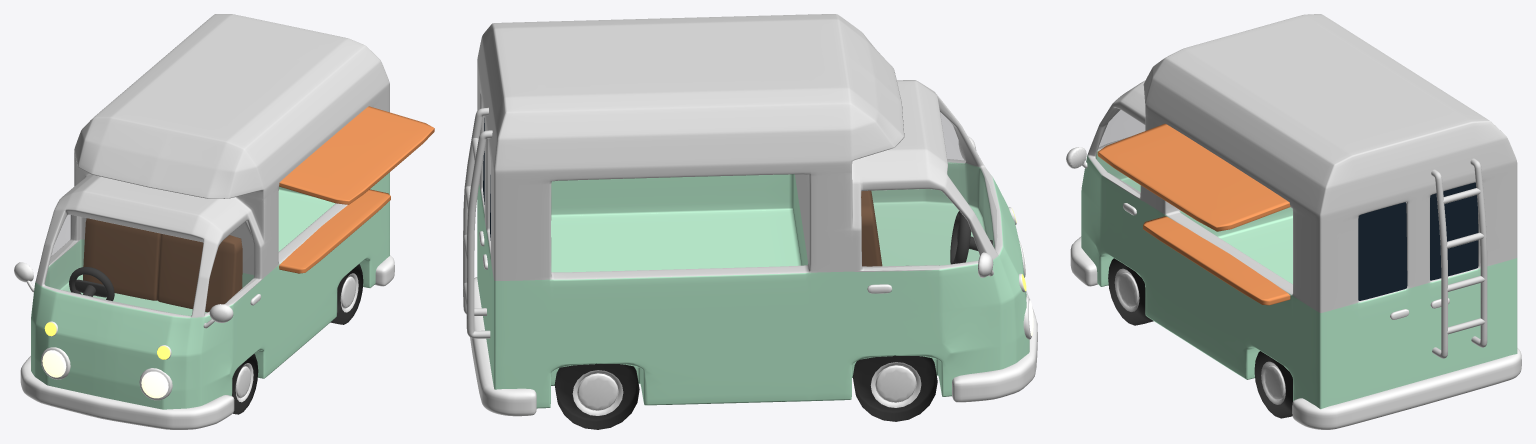
3 renders of one model, left to right at view 1: azimuth 30°, elevation 25°; view 2: azimuth 150°, elevation 25°; view 3: azimuth 270°, elevation 25°, orthographic. The views are drawn at different scales.
Visible parts, largest first — view 1: Body_0, Windscreen_3, Awning_4, Seat_7, Bumber_5, Wheel_1, Headlight_2, Hand Wheel_8, Mirror_6; view 2: Body_0, Windscreen_3, Wheel_1, Bumber_5, Ladder_10, Seat_7, Hand Wheel_8, Headlight_2; view 3: Body_0, Awning_4, Bumber_5, SER_T2_16_PERRONE_01.001, Ladder_10, Wheel_1, SER_T2_16_PERRONE_01.001_Material.010_0.001, Windscreen_3.
Part boxes in pixels (box(x1,y1,x2,y2)): Body_0: box(31, 14, 389, 409); Windscreen_3: box(45, 214, 255, 315); Awning_4: box(279, 106, 434, 273); Seat_7: box(83, 218, 242, 312); Bumber_5: box(20, 255, 394, 429); Wheel_1: box(232, 264, 363, 414); Headlight_2: box(41, 321, 172, 400); Hand Wheel_8: box(69, 267, 114, 300); Mirror_6: box(14, 262, 233, 328); Body_0: box(477, 14, 1029, 408); Windscreen_3: box(861, 108, 996, 267); Wheel_1: box(554, 356, 937, 429); Bumber_5: box(470, 277, 1037, 416); Ladder_10: box(463, 107, 492, 338); Seat_7: box(861, 190, 882, 266); Hand Wheel_8: box(950, 211, 992, 264); Headlight_2: box(1008, 207, 1033, 339); Body_0: box(1081, 14, 1517, 409); Awning_4: box(1097, 123, 1290, 305); Bumber_5: box(1070, 236, 1521, 429); SER_T2_16_PERRONE_01.001: box(1358, 202, 1407, 300); Ladder_10: box(1431, 158, 1487, 358); Wheel_1: box(1108, 258, 1292, 418); SER_T2_16_PERRONE_01.001_Material.010_0.001: box(1430, 182, 1478, 280); Windscreen_3: box(1096, 109, 1144, 193).
Size of the model in its own units: 4.24 by 2.53 by 3.73.
